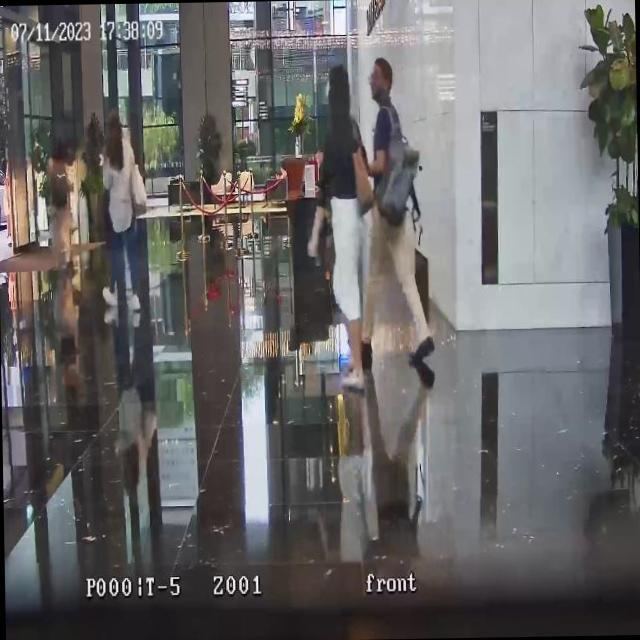person: (360, 55, 436, 392), (316, 64, 375, 383), (99, 107, 149, 317), (46, 138, 74, 276)
